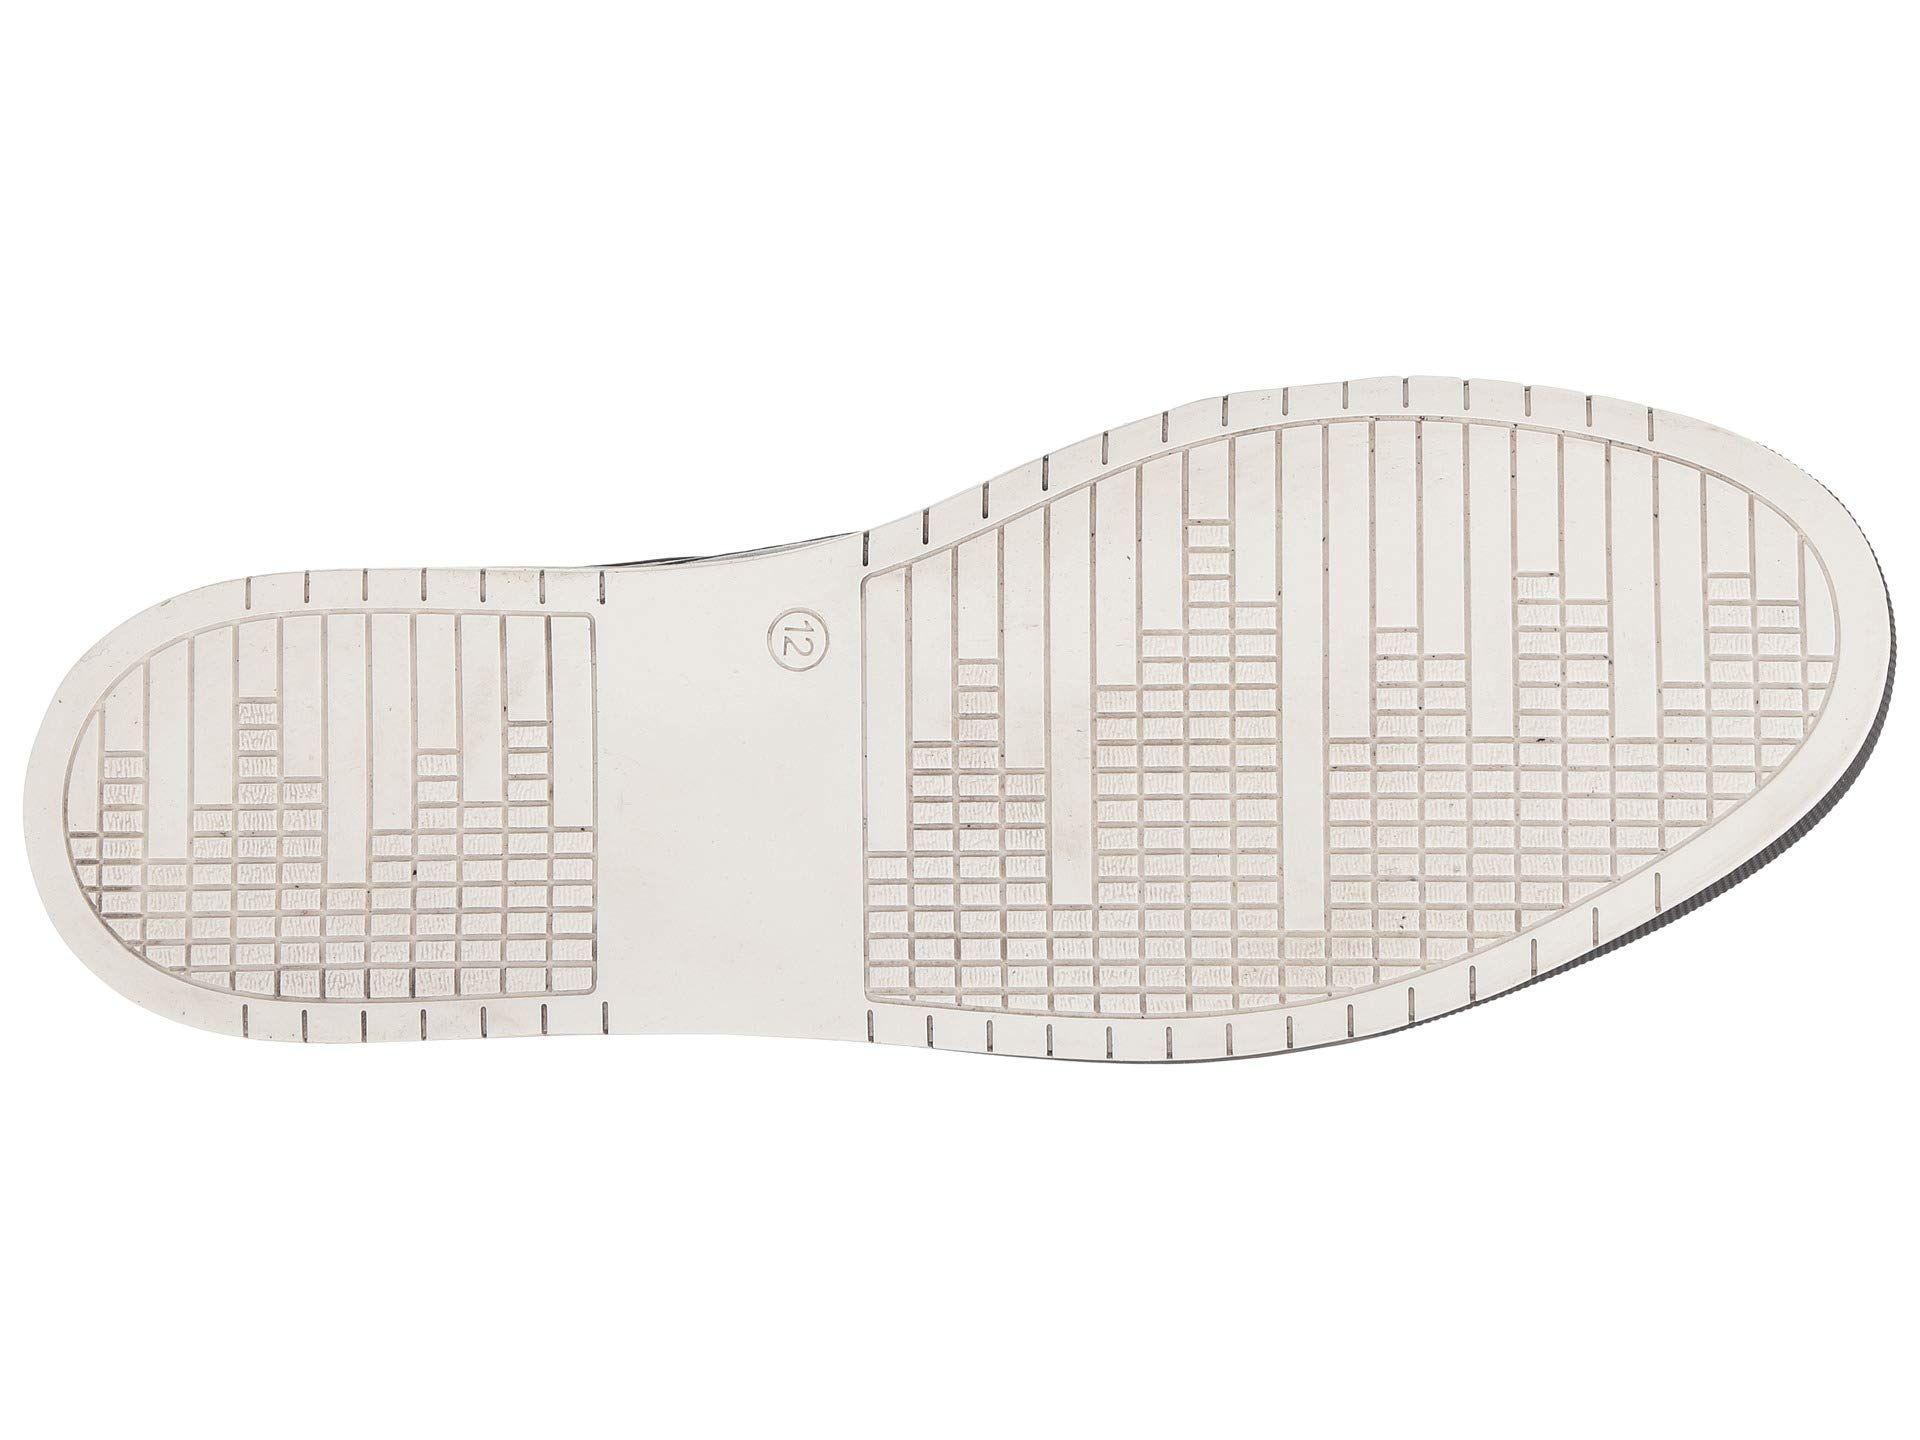circle: (738, 591, 833, 691)
quad: (838, 563, 1302, 1027), (1311, 390, 1742, 877), (216, 613, 582, 1012), (1309, 885, 1438, 1027)
text: (738, 591, 833, 691)
